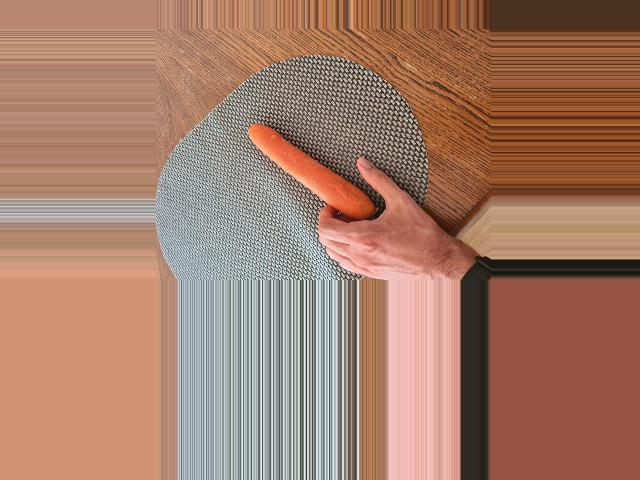carrot: (250, 123, 374, 216)
